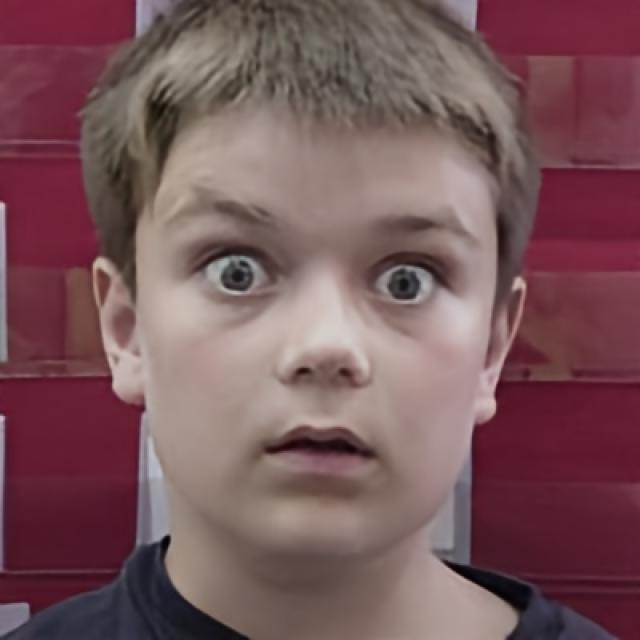fear: (132, 100, 500, 557)
